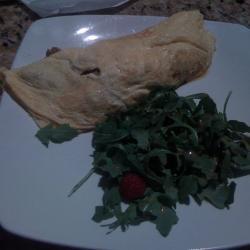omelette: (7, 13, 226, 117)
salad: (88, 88, 248, 230)
